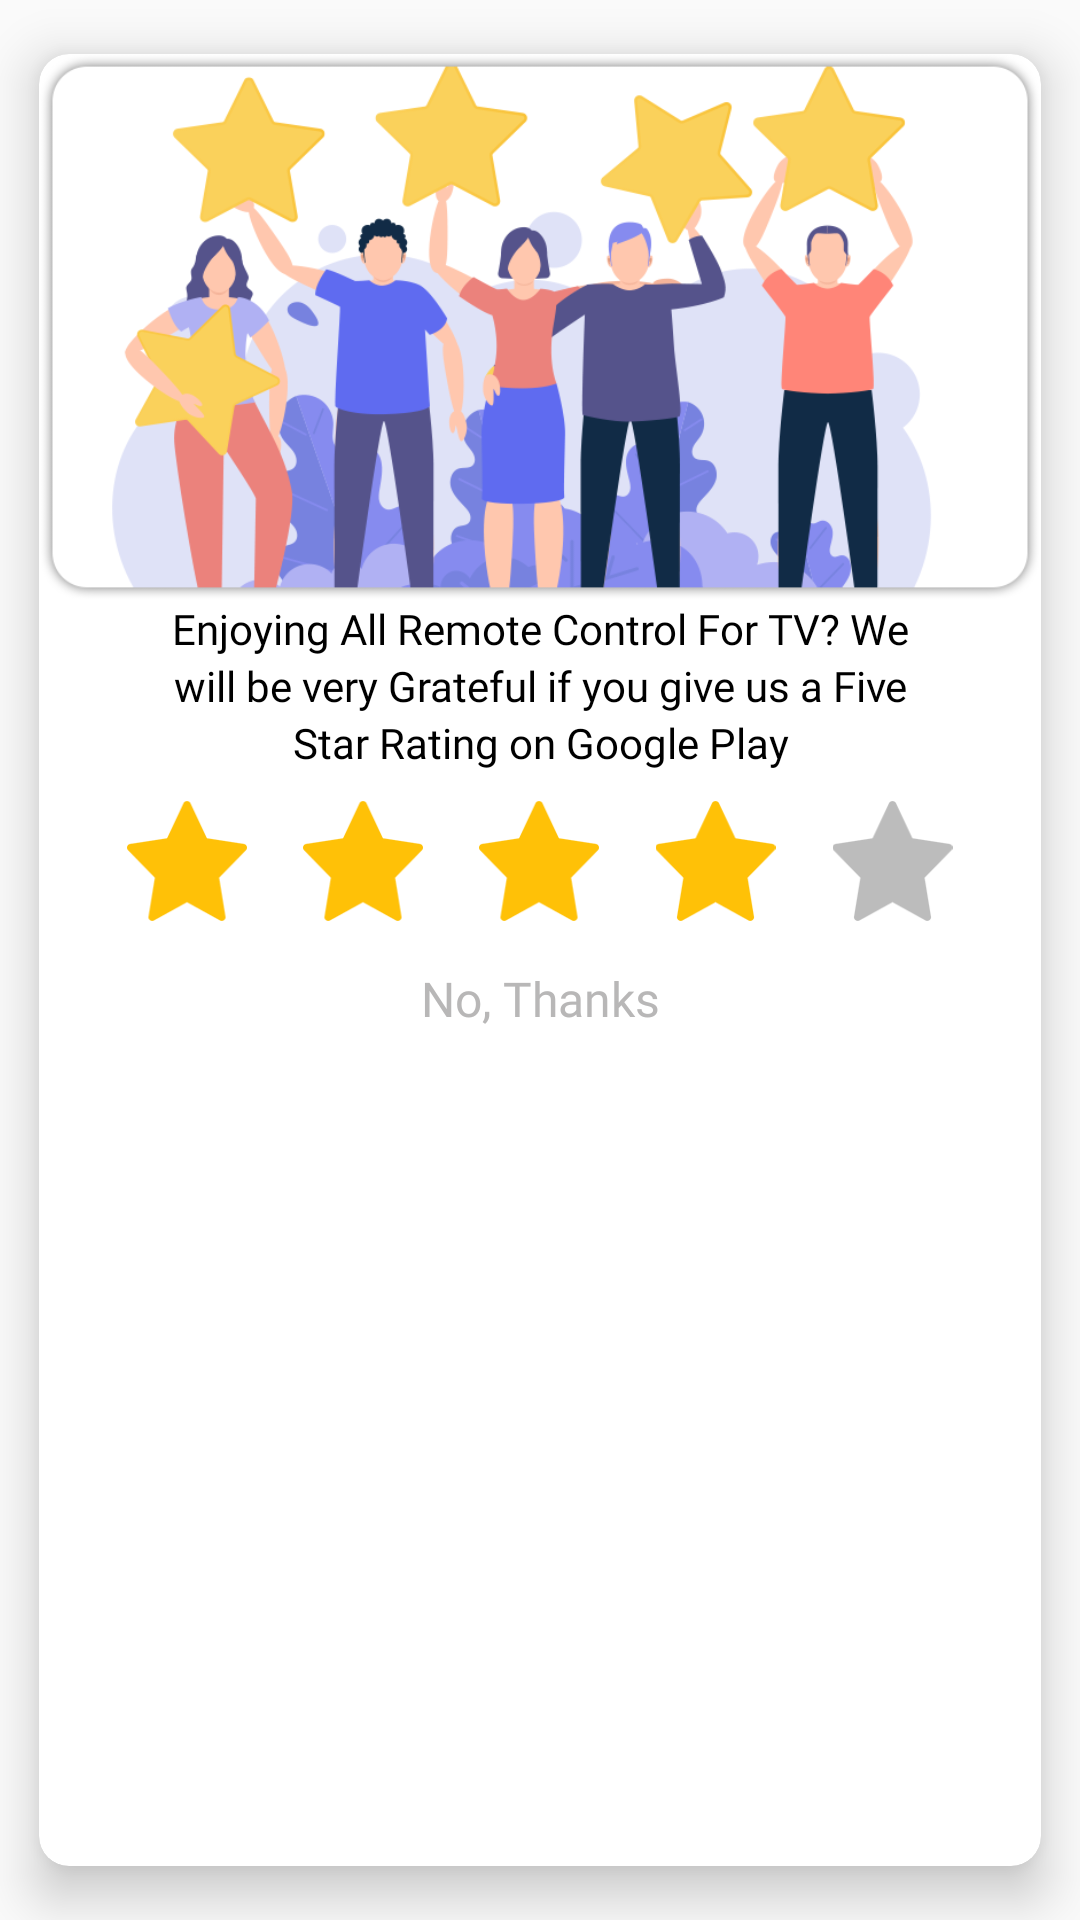

Named icons in this screenshot (1080w x 1920h) and their centers, [x,y]:
four star: [187,861], [363,861], [539,861], [716,861]
